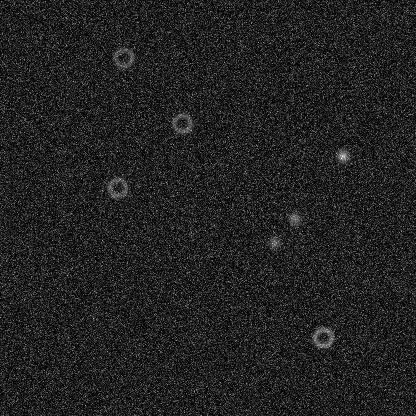Ring: (310, 325, 334, 349), (105, 175, 129, 199), (111, 45, 135, 69), (170, 111, 194, 135)
Spot: (266, 234, 282, 250), (334, 148, 350, 164), (286, 210, 302, 226)
